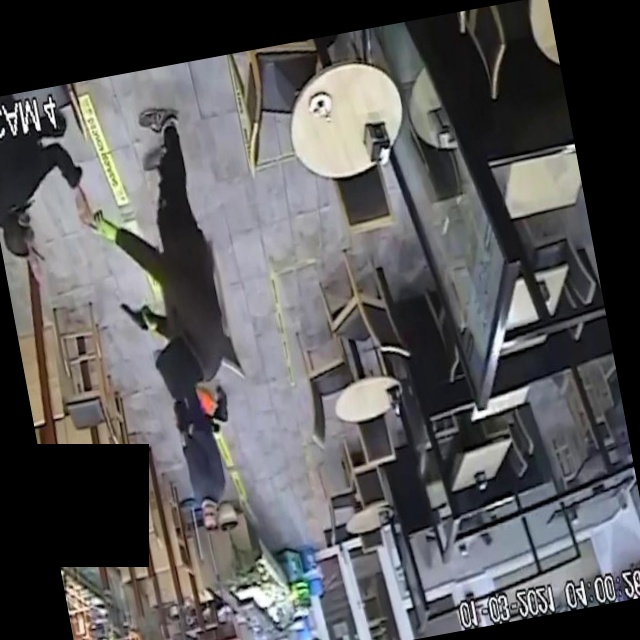gun: (110, 284, 164, 341)
